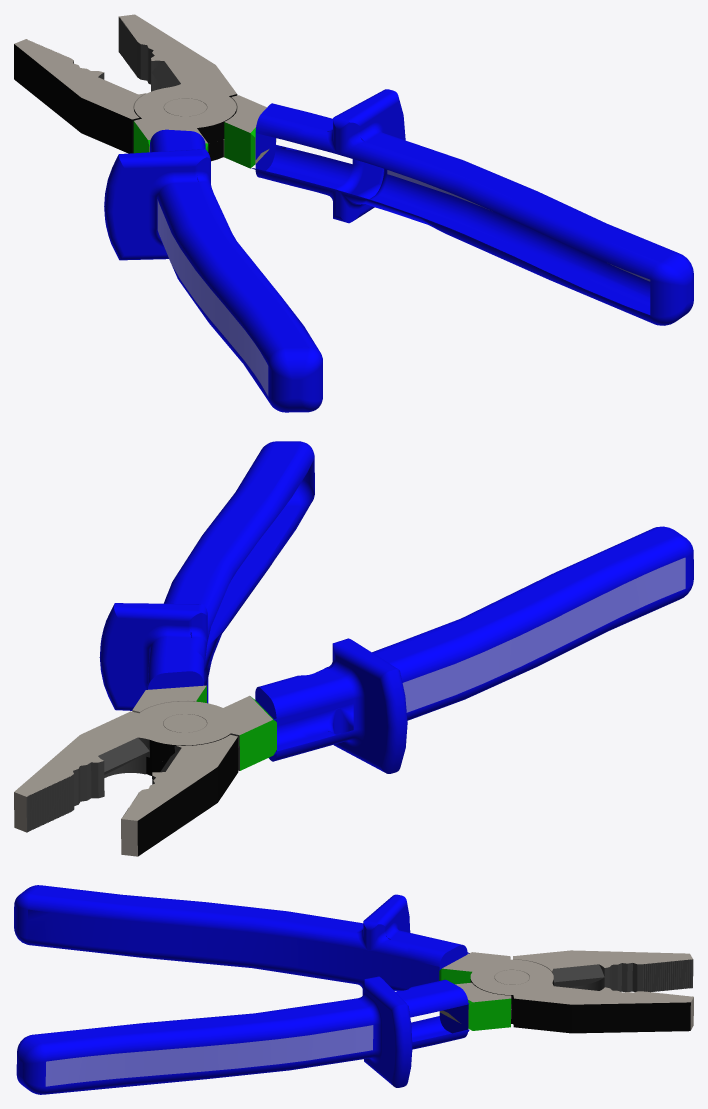
The picture shows the model from 3 angles, top to bottom: view 1: azimuth 30°, elevation 25°; view 2: azimuth 150°, elevation 25°; view 3: azimuth 270°, elevation 25°; orthographic projection. The views are drawn at different scales.
Visible parts, largest first — view 1: Alicate-4, Alicate-11, Alicate-8, Alicate, Alicate-2, Alicate-12, Alicate-6, Alicate-3, Alicate-10; view 2: Alicate-11, Alicate-4, Alicate-12, Alicate-8, Alicate-2, Alicate-6, Alicate, Alicate-7, Alicate-10; view 3: Alicate-11, Alicate-4, Alicate-5, Alicate-9, Alicate-8, Alicate-1, Alicate-2, Alicate-3, Alicate-10, Alicate-7.
Part boxes in pixels (x1,y1,x2,y2): Alicate-4: (251, 89, 693, 325); Alicate-11: (104, 129, 322, 412); Alicate-8: (119, 14, 236, 152); Alicate: (14, 44, 223, 161); Alicate-2: (14, 39, 276, 163); Alicate-12: (157, 199, 268, 396); Alicate-6: (118, 17, 180, 91); Alicate-3: (224, 122, 255, 168); Alicate-10: (164, 98, 206, 116); Alicate-11: (255, 526, 693, 773); Alicate-4: (99, 441, 314, 710); Alicate-12: (402, 557, 685, 712); Alicate-8: (14, 695, 272, 832); Alicate-2: (121, 685, 237, 856); Alicate-6: (26, 733, 239, 832); Alicate: (137, 737, 238, 856); Alicate-7: (239, 696, 276, 770); Alicate-10: (163, 714, 206, 732); Alicate-11: (14, 885, 469, 995); Alicate-4: (16, 976, 469, 1094); Alicate-5: (45, 1025, 373, 1086); Alicate-9: (470, 979, 690, 1033); Alicate-8: (442, 952, 693, 1030); Alicate-1: (552, 959, 693, 992); Alicate-2: (439, 950, 692, 1027); Alicate-3: (468, 998, 511, 1030); Alicate-10: (494, 970, 529, 984); Alicate-7: (439, 968, 471, 984).
Size of the model in its own units: 0.5586 by 0.1308 by 0.9589.
